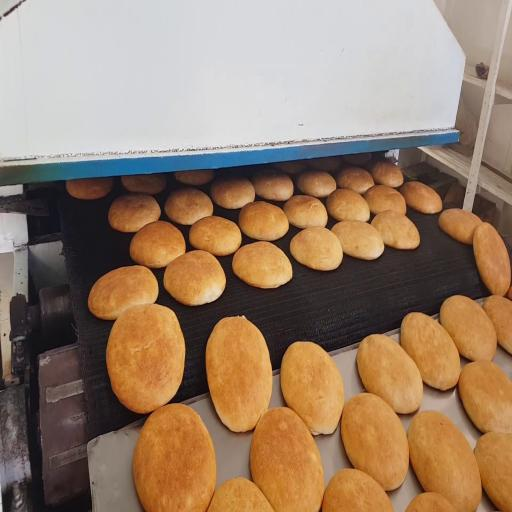bread: (133, 404, 216, 511), (106, 304, 185, 413), (250, 408, 324, 511), (206, 317, 272, 432), (408, 411, 481, 511), (342, 393, 409, 490), (280, 342, 344, 435), (357, 335, 423, 413), (401, 312, 460, 390), (459, 361, 511, 434), (88, 266, 158, 319), (440, 295, 496, 360), (164, 251, 226, 305), (322, 469, 393, 511), (475, 433, 511, 511), (232, 242, 292, 288), (473, 223, 510, 296), (130, 221, 185, 268), (290, 228, 342, 270), (208, 478, 273, 511), (189, 216, 241, 255), (332, 221, 384, 260), (108, 194, 161, 232), (239, 202, 288, 241), (371, 211, 419, 249), (164, 188, 213, 225), (483, 296, 511, 353), (439, 209, 481, 245), (283, 195, 327, 228), (211, 177, 255, 209), (327, 189, 370, 221), (252, 168, 293, 201), (400, 182, 442, 213), (364, 185, 406, 214), (336, 166, 374, 194), (297, 170, 336, 197), (66, 178, 113, 200), (121, 174, 166, 195), (369, 160, 403, 187), (406, 493, 456, 511), (174, 170, 214, 185), (308, 156, 341, 172), (273, 160, 307, 175), (342, 153, 372, 166), (506, 286, 511, 300)
